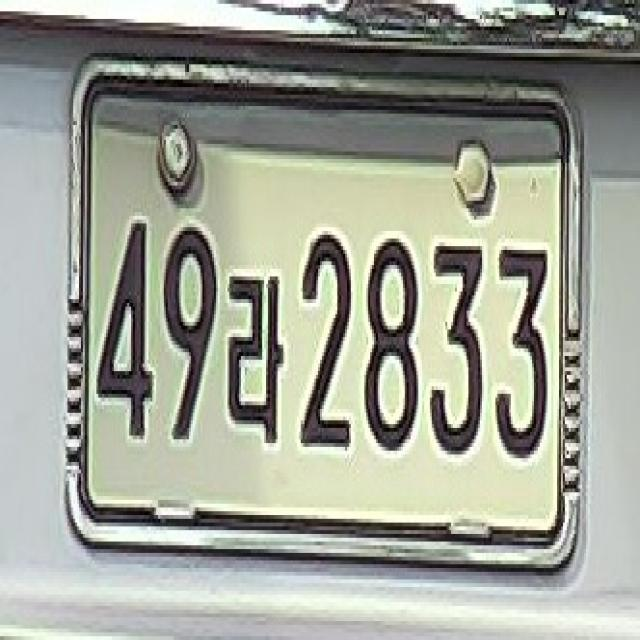2: (294, 222, 356, 493)
3: (424, 222, 486, 480), (491, 230, 552, 470)
4: (96, 195, 160, 478)
8: (362, 223, 422, 482)
9: (163, 194, 218, 465)
la: (222, 254, 288, 461)
license_plate: (58, 52, 592, 593)
